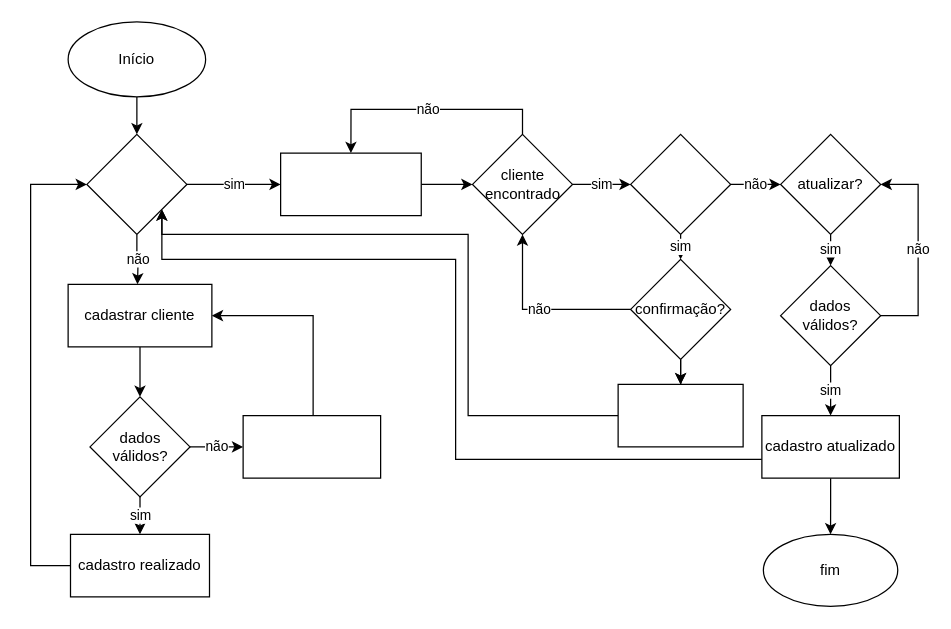
Some shapes in this 951 by 629 pixel diagram are drawn without their labels. Here are the shapes that lost their labels. From the top down, the box of each, then its label:
(86, 133, 187, 234): cliente cadastrado
(279, 152, 421, 216): buscar cliente
(629, 133, 731, 234): apagar?
(617, 383, 743, 447): apagar cliente
(242, 414, 381, 478): mostrar erro
